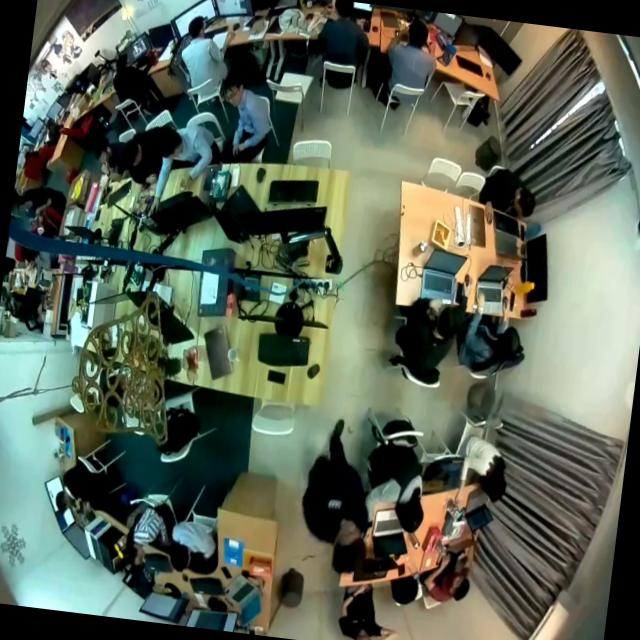employee_tag: (327, 497, 342, 512)
